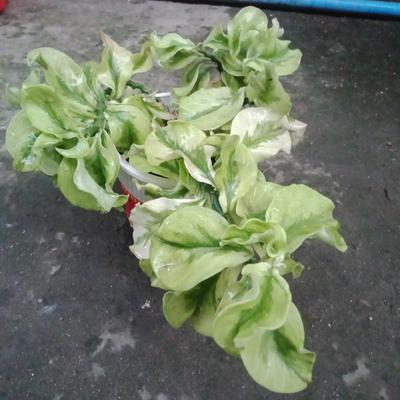Pothos plant: (52, 33, 313, 233)
